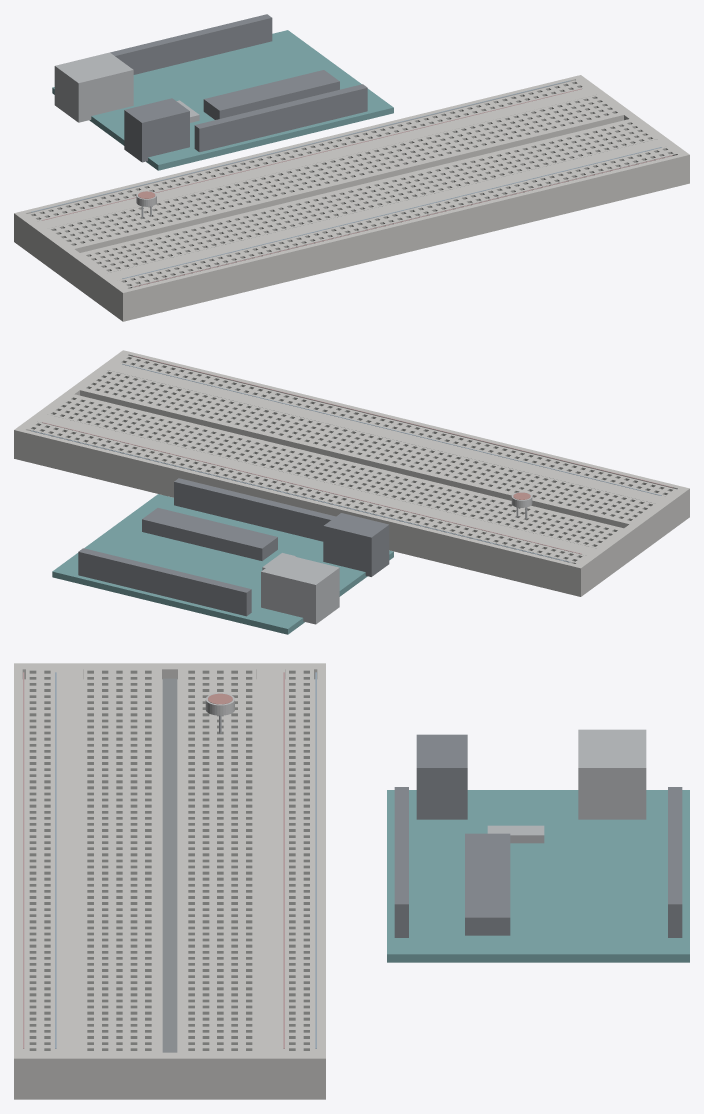
The model's file is step-1.glb.
3 views of the same model, one above another, from view 1: azimuth 30°, elevation 25°; view 2: azimuth 150°, elevation 25°; view 3: azimuth 270°, elevation 25° (orthographic). The views are drawn at different scales.
Parts seen in each view (by area): view 1: bb__mesh, uno__mesh; view 2: bb__mesh, uno__mesh; view 3: bb__mesh, uno__mesh, ldr__mesh.
Part boxes in pixels (x1=…): bb__mesh: x1=14, y1=75, x2=689, y2=321; uno__mesh: x1=52, y1=14, x2=393, y2=170; bb__mesh: x1=14, y1=350, x2=689, y2=596; uno__mesh: x1=52, y1=478, x2=393, y2=634; bb__mesh: x1=14, y1=663, x2=325, y2=1099; uno__mesh: x1=387, y1=729, x2=689, y2=962; ldr__mesh: x1=205, y1=693, x2=234, y2=733.
Bounding box in the file's own units: 0.165 × 0.0158 × 0.1192.
